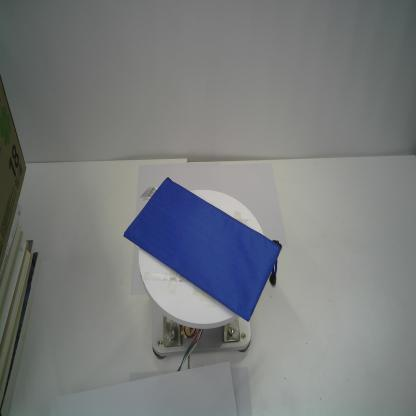Stationery: (123, 176, 282, 324)
